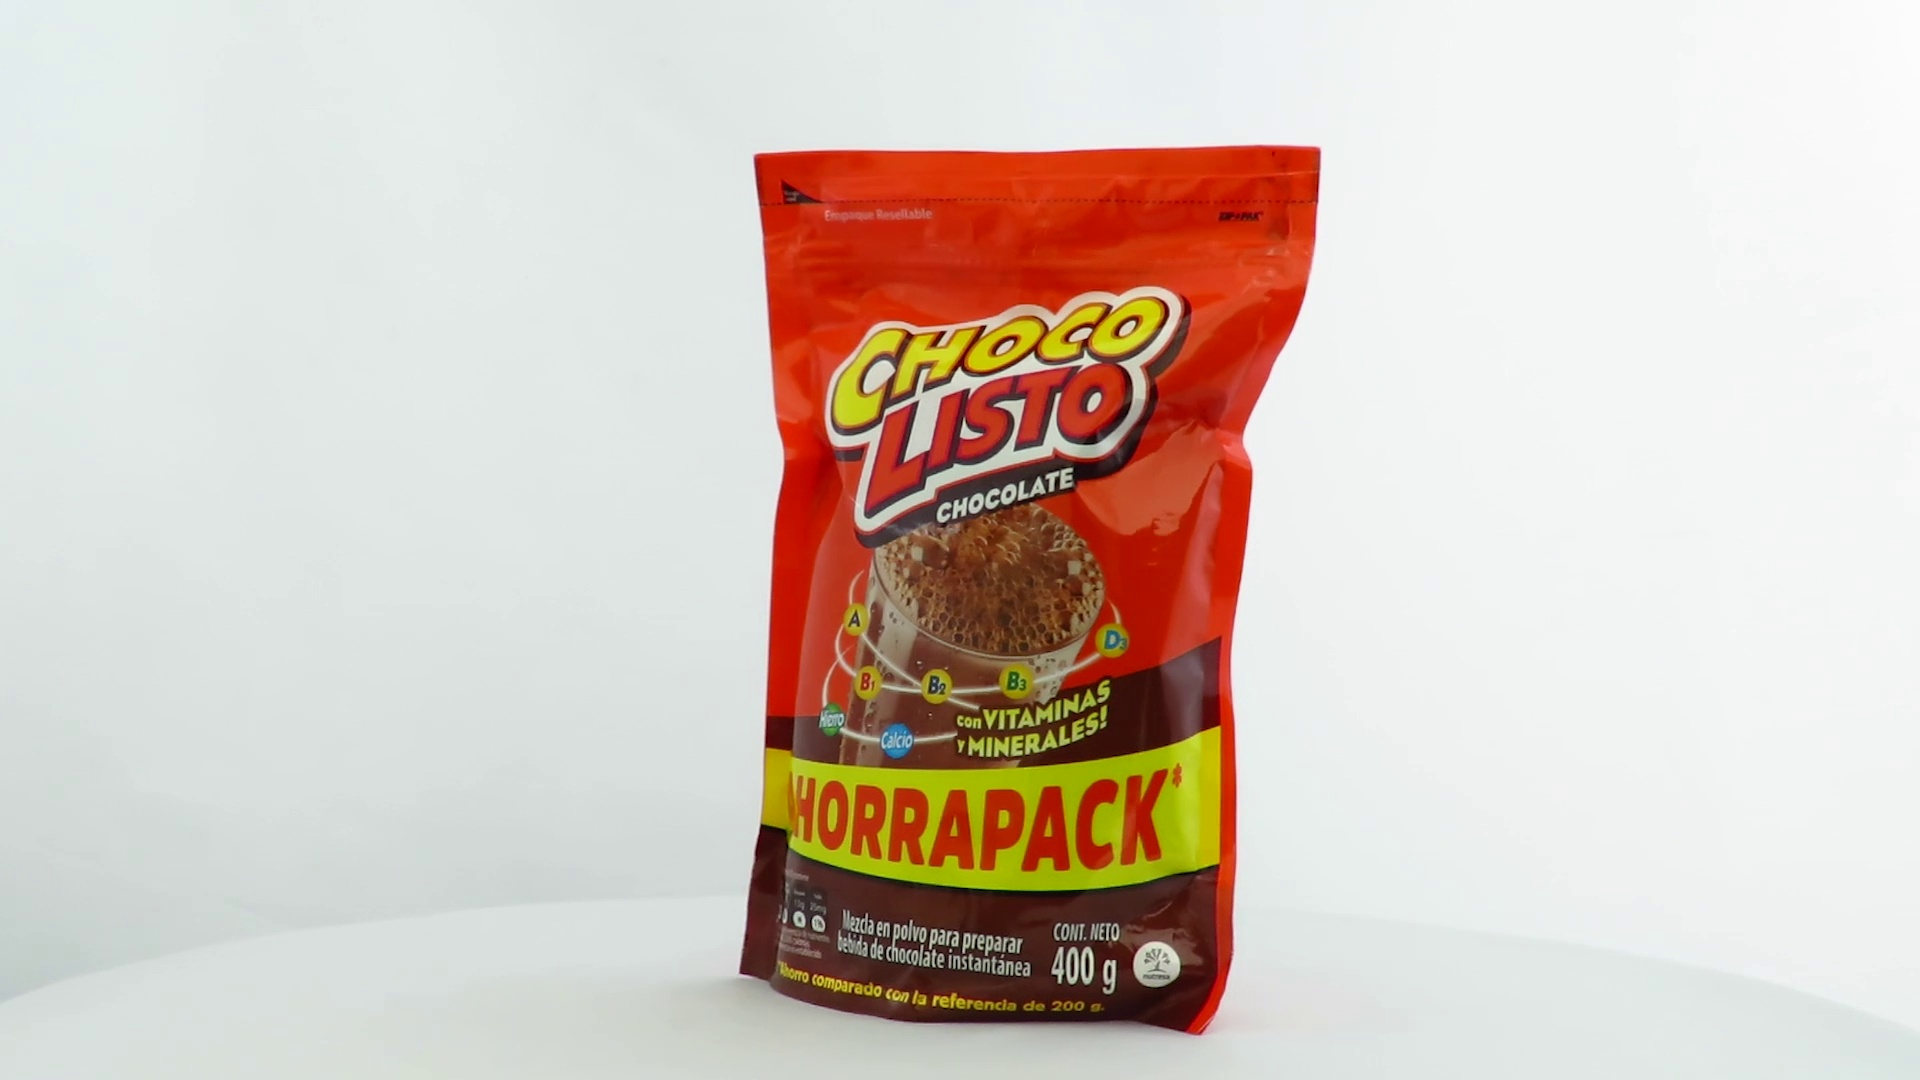COL0170103DYP40000: (735, 140, 1327, 1042)
